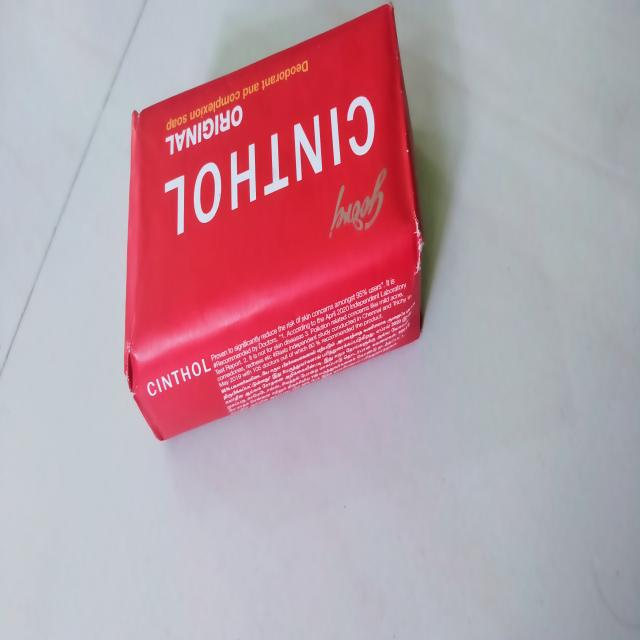soap: (122, 0, 426, 449)
